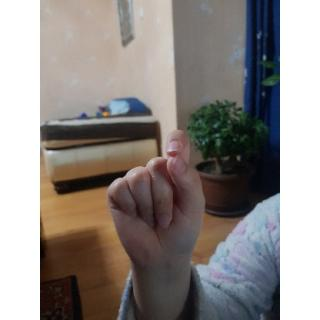FAA: (103, 127, 210, 283)
